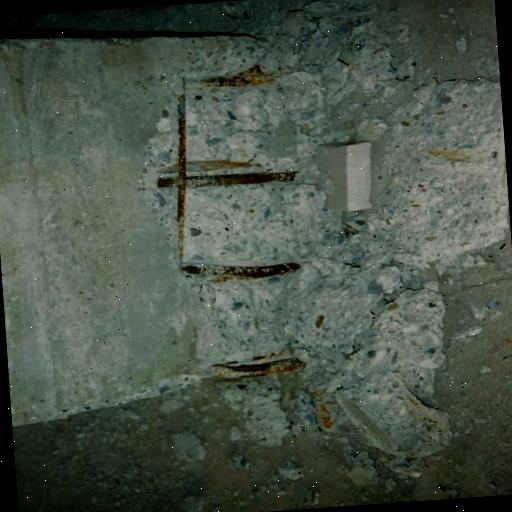spalling: (139, 49, 307, 379)
